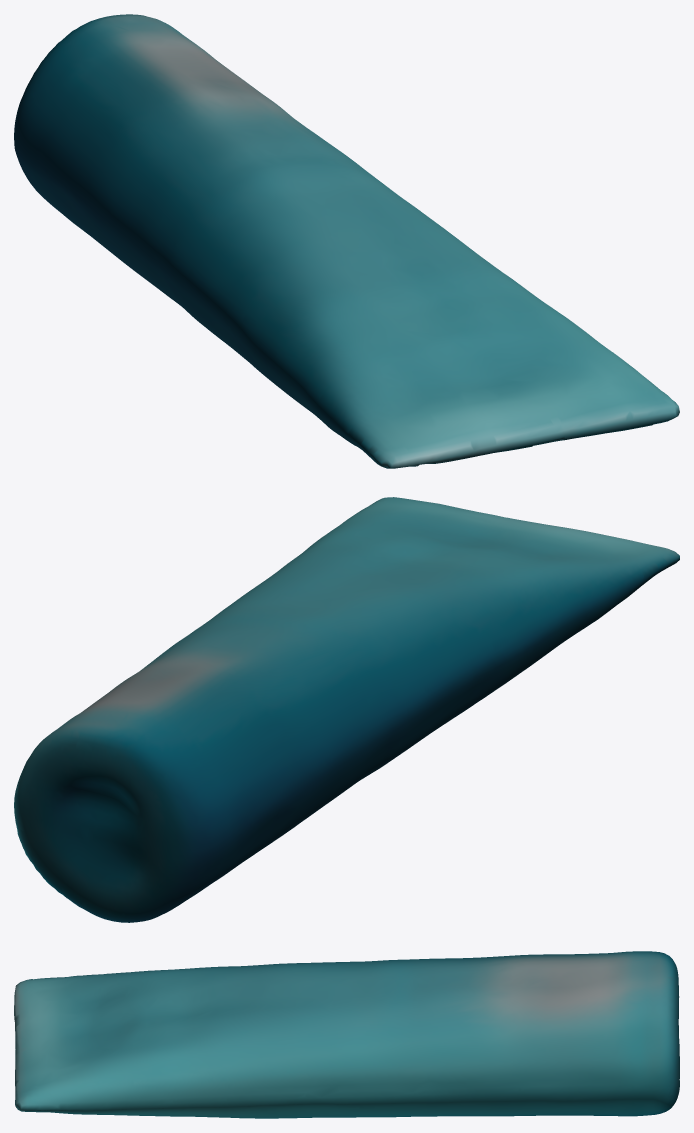
The model's file is oil.glb.
3 renders of one model, top to bottom at view 1: azimuth 30°, elevation 25°; view 2: azimuth 150°, elevation 25°; view 3: azimuth 270°, elevation 25°, orthographic. The views are drawn at different scales.
Bounding box in the file's own units: 0.3957 × 0.246 × 0.9993.
